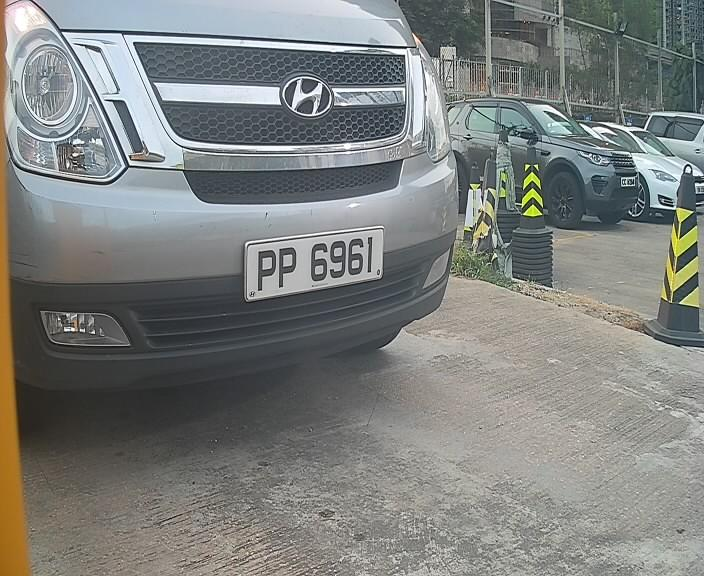License Plate: (233, 219, 393, 301)
